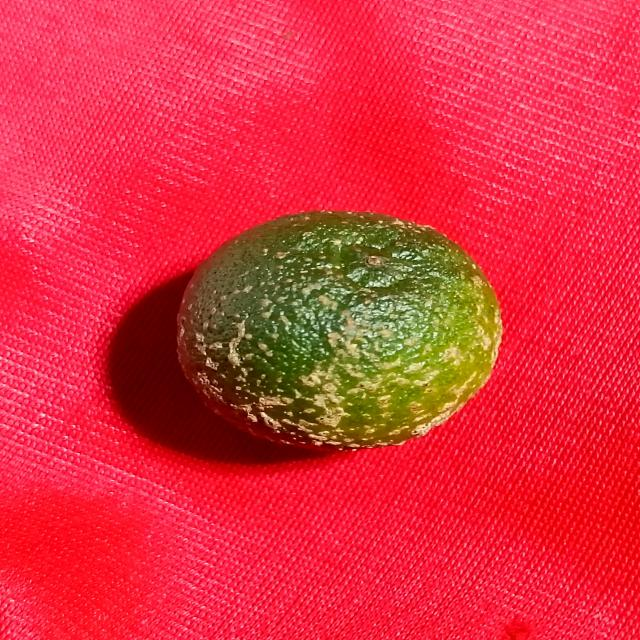scab: (181, 203, 510, 447)
